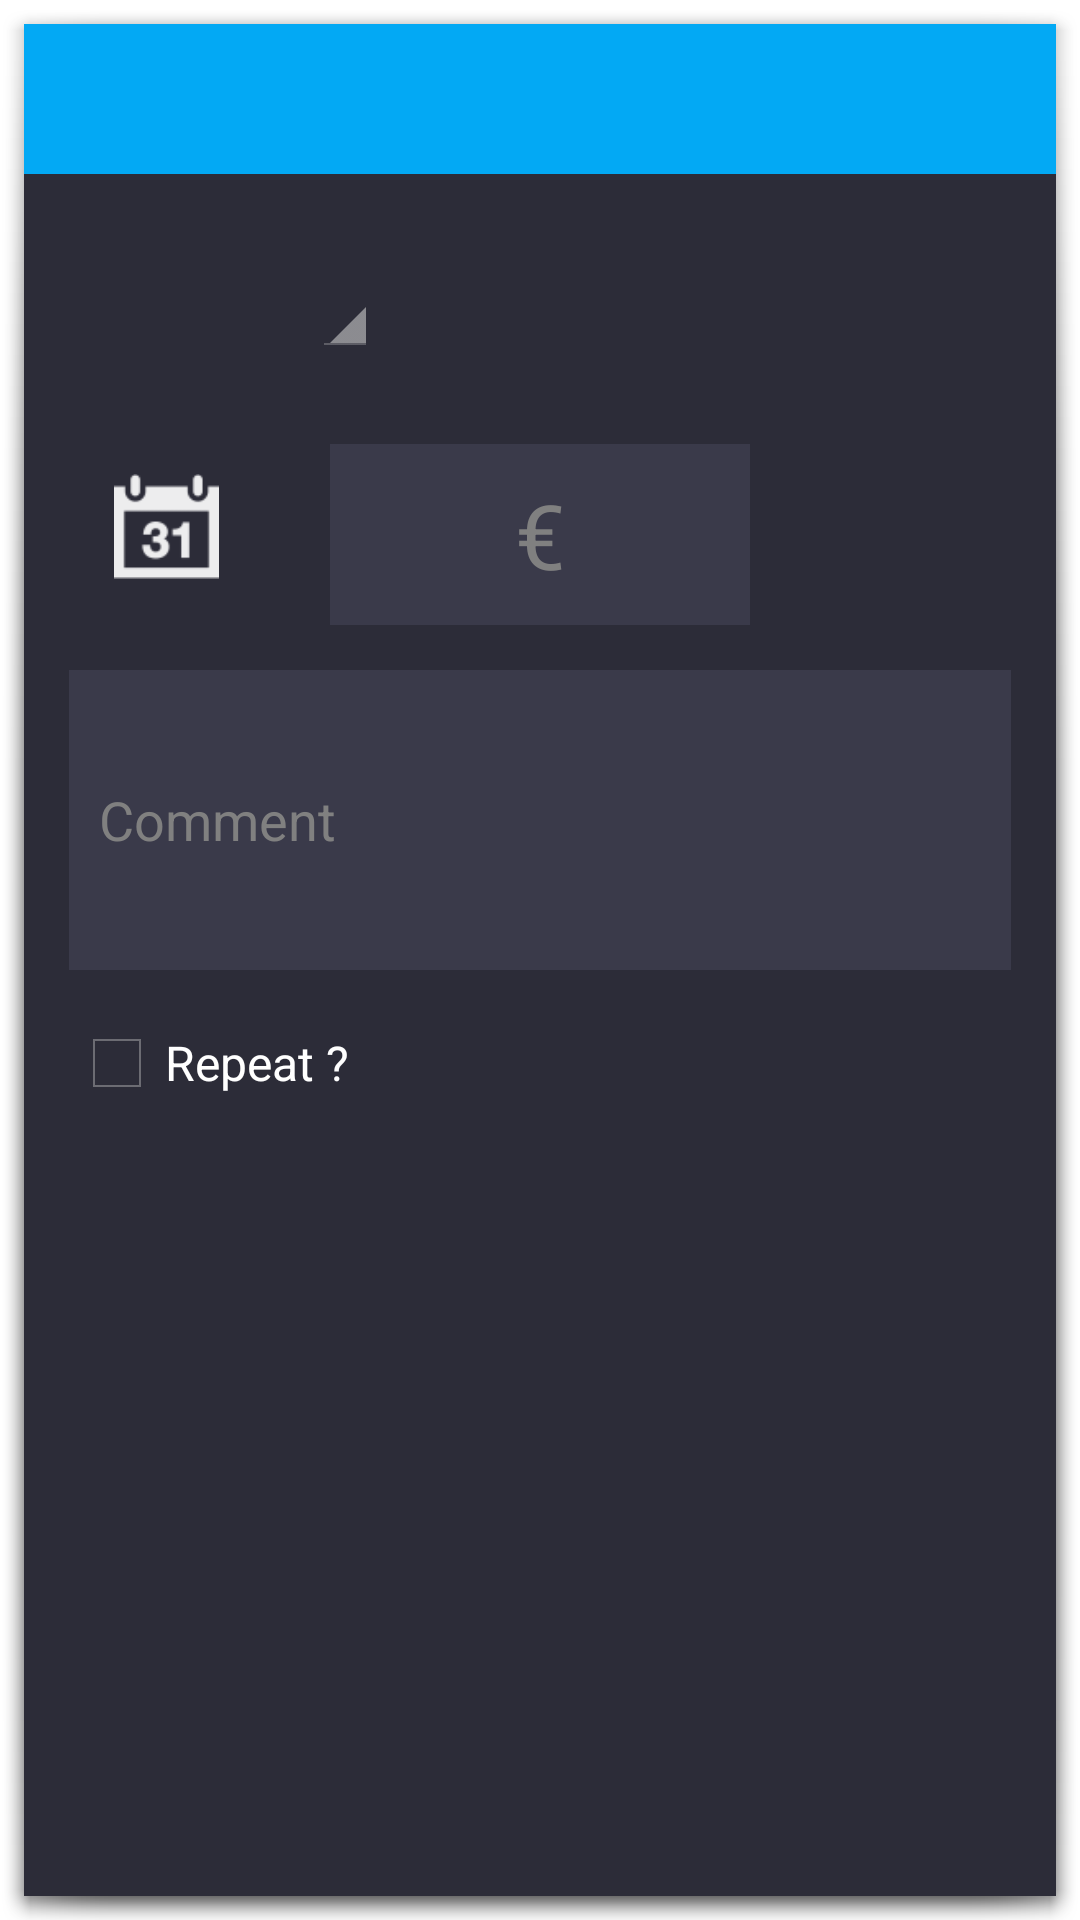

Where to tap for icons on this 1080 × 1920 app screen, as (x=x, y=y):
calendar: (x=154, y=514)
